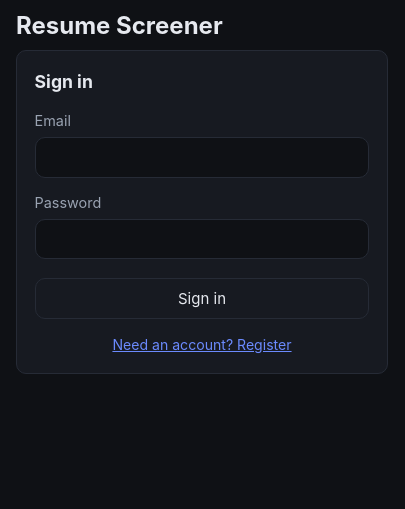
Scenario: LoginPage › explains a duplicate registration
Click the button "Need an account? Register".
click(202, 344)  # box [112,334,292,355]
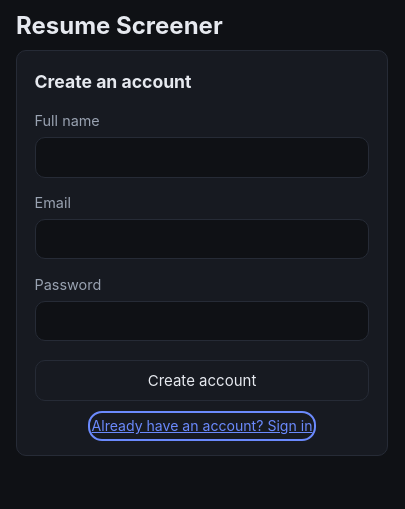
Type "Sara Haddad" into the field labelled "Full name".
click(202, 158); type("Sara Haddad")  # box [35,137,369,178]
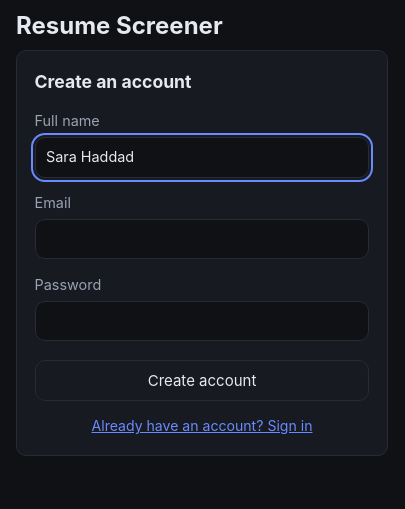
Type "me@example.com" into the field labelled "Email".
click(202, 239); type("me@example.com")  # box [35,219,369,260]
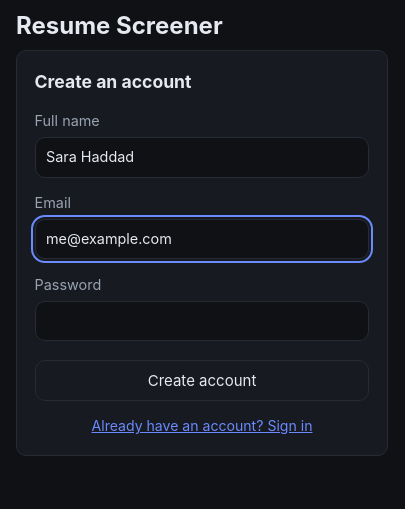
Type "devpassword" into the password field labelled "Password".
click(202, 321); type("devpassword")  # box [35,301,369,341]
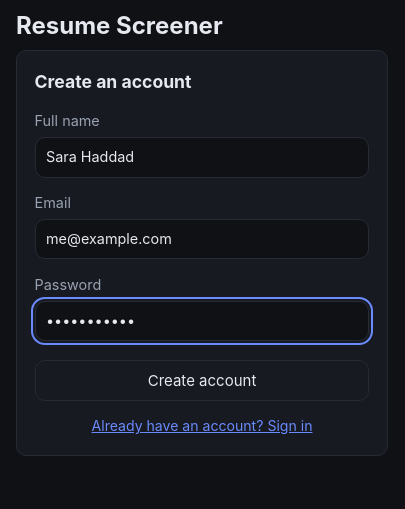
Click the button "Create account".
click(202, 380)  # box [35,360,369,401]
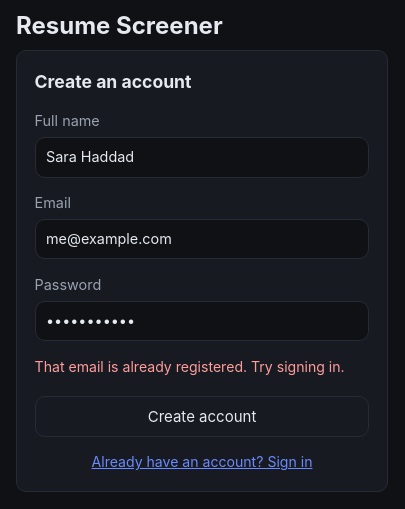
Expected: the message shows "already registered", [35,358,345,375]
